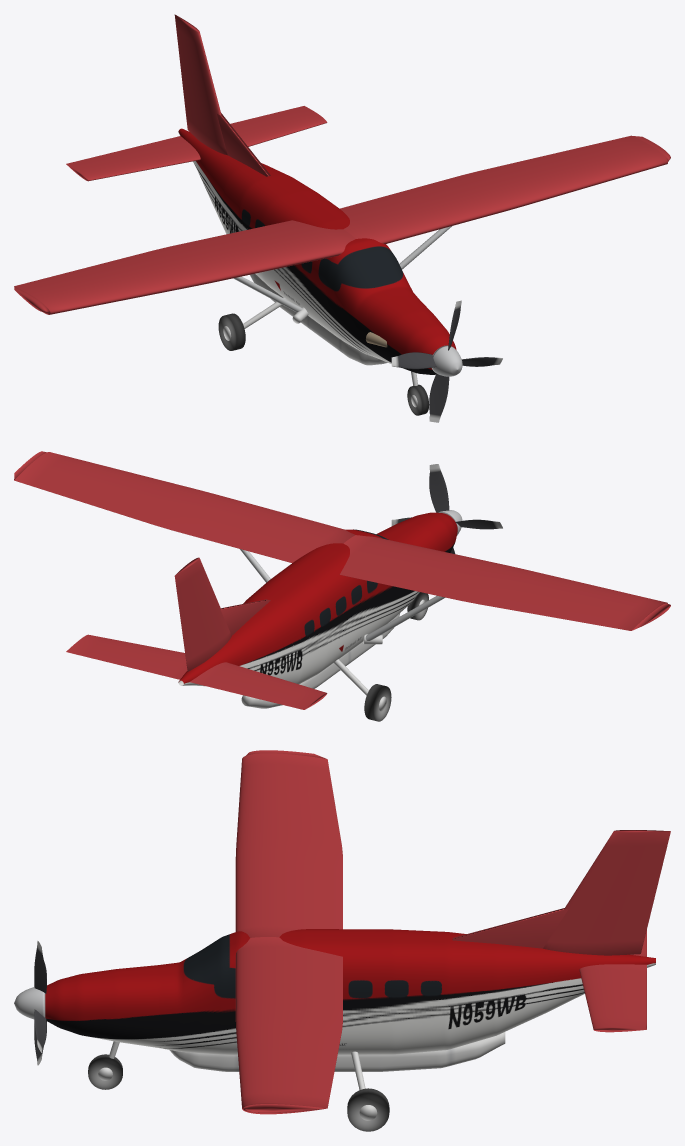
File: kodiak.glb
3 views of the same model, one above another, from view 1: azimuth 30°, elevation 25°; view 2: azimuth 150°, elevation 25°; view 3: azimuth 270°, elevation 25° (orthographic). The views are drawn at different scales.
Visible parts, largest first — view 1: Kodiak100_N959WB, Propeller; view 2: Kodiak100_N959WB, Propeller; view 3: Kodiak100_N959WB, Propeller.
Part boxes in pixels (x1,y1,x2,y2): Kodiak100_N959WB: [14, 14, 670, 415]; Propeller: [391, 300, 502, 422]; Kodiak100_N959WB: [14, 451, 670, 721]; Propeller: [391, 464, 502, 553]; Kodiak100_N959WB: [45, 750, 670, 1131]; Propeller: [14, 941, 46, 1065].
Bounding box in the file's own units: 13.96 × 4.7 × 10.9.
Materials: 2 (1 with a texture image).
